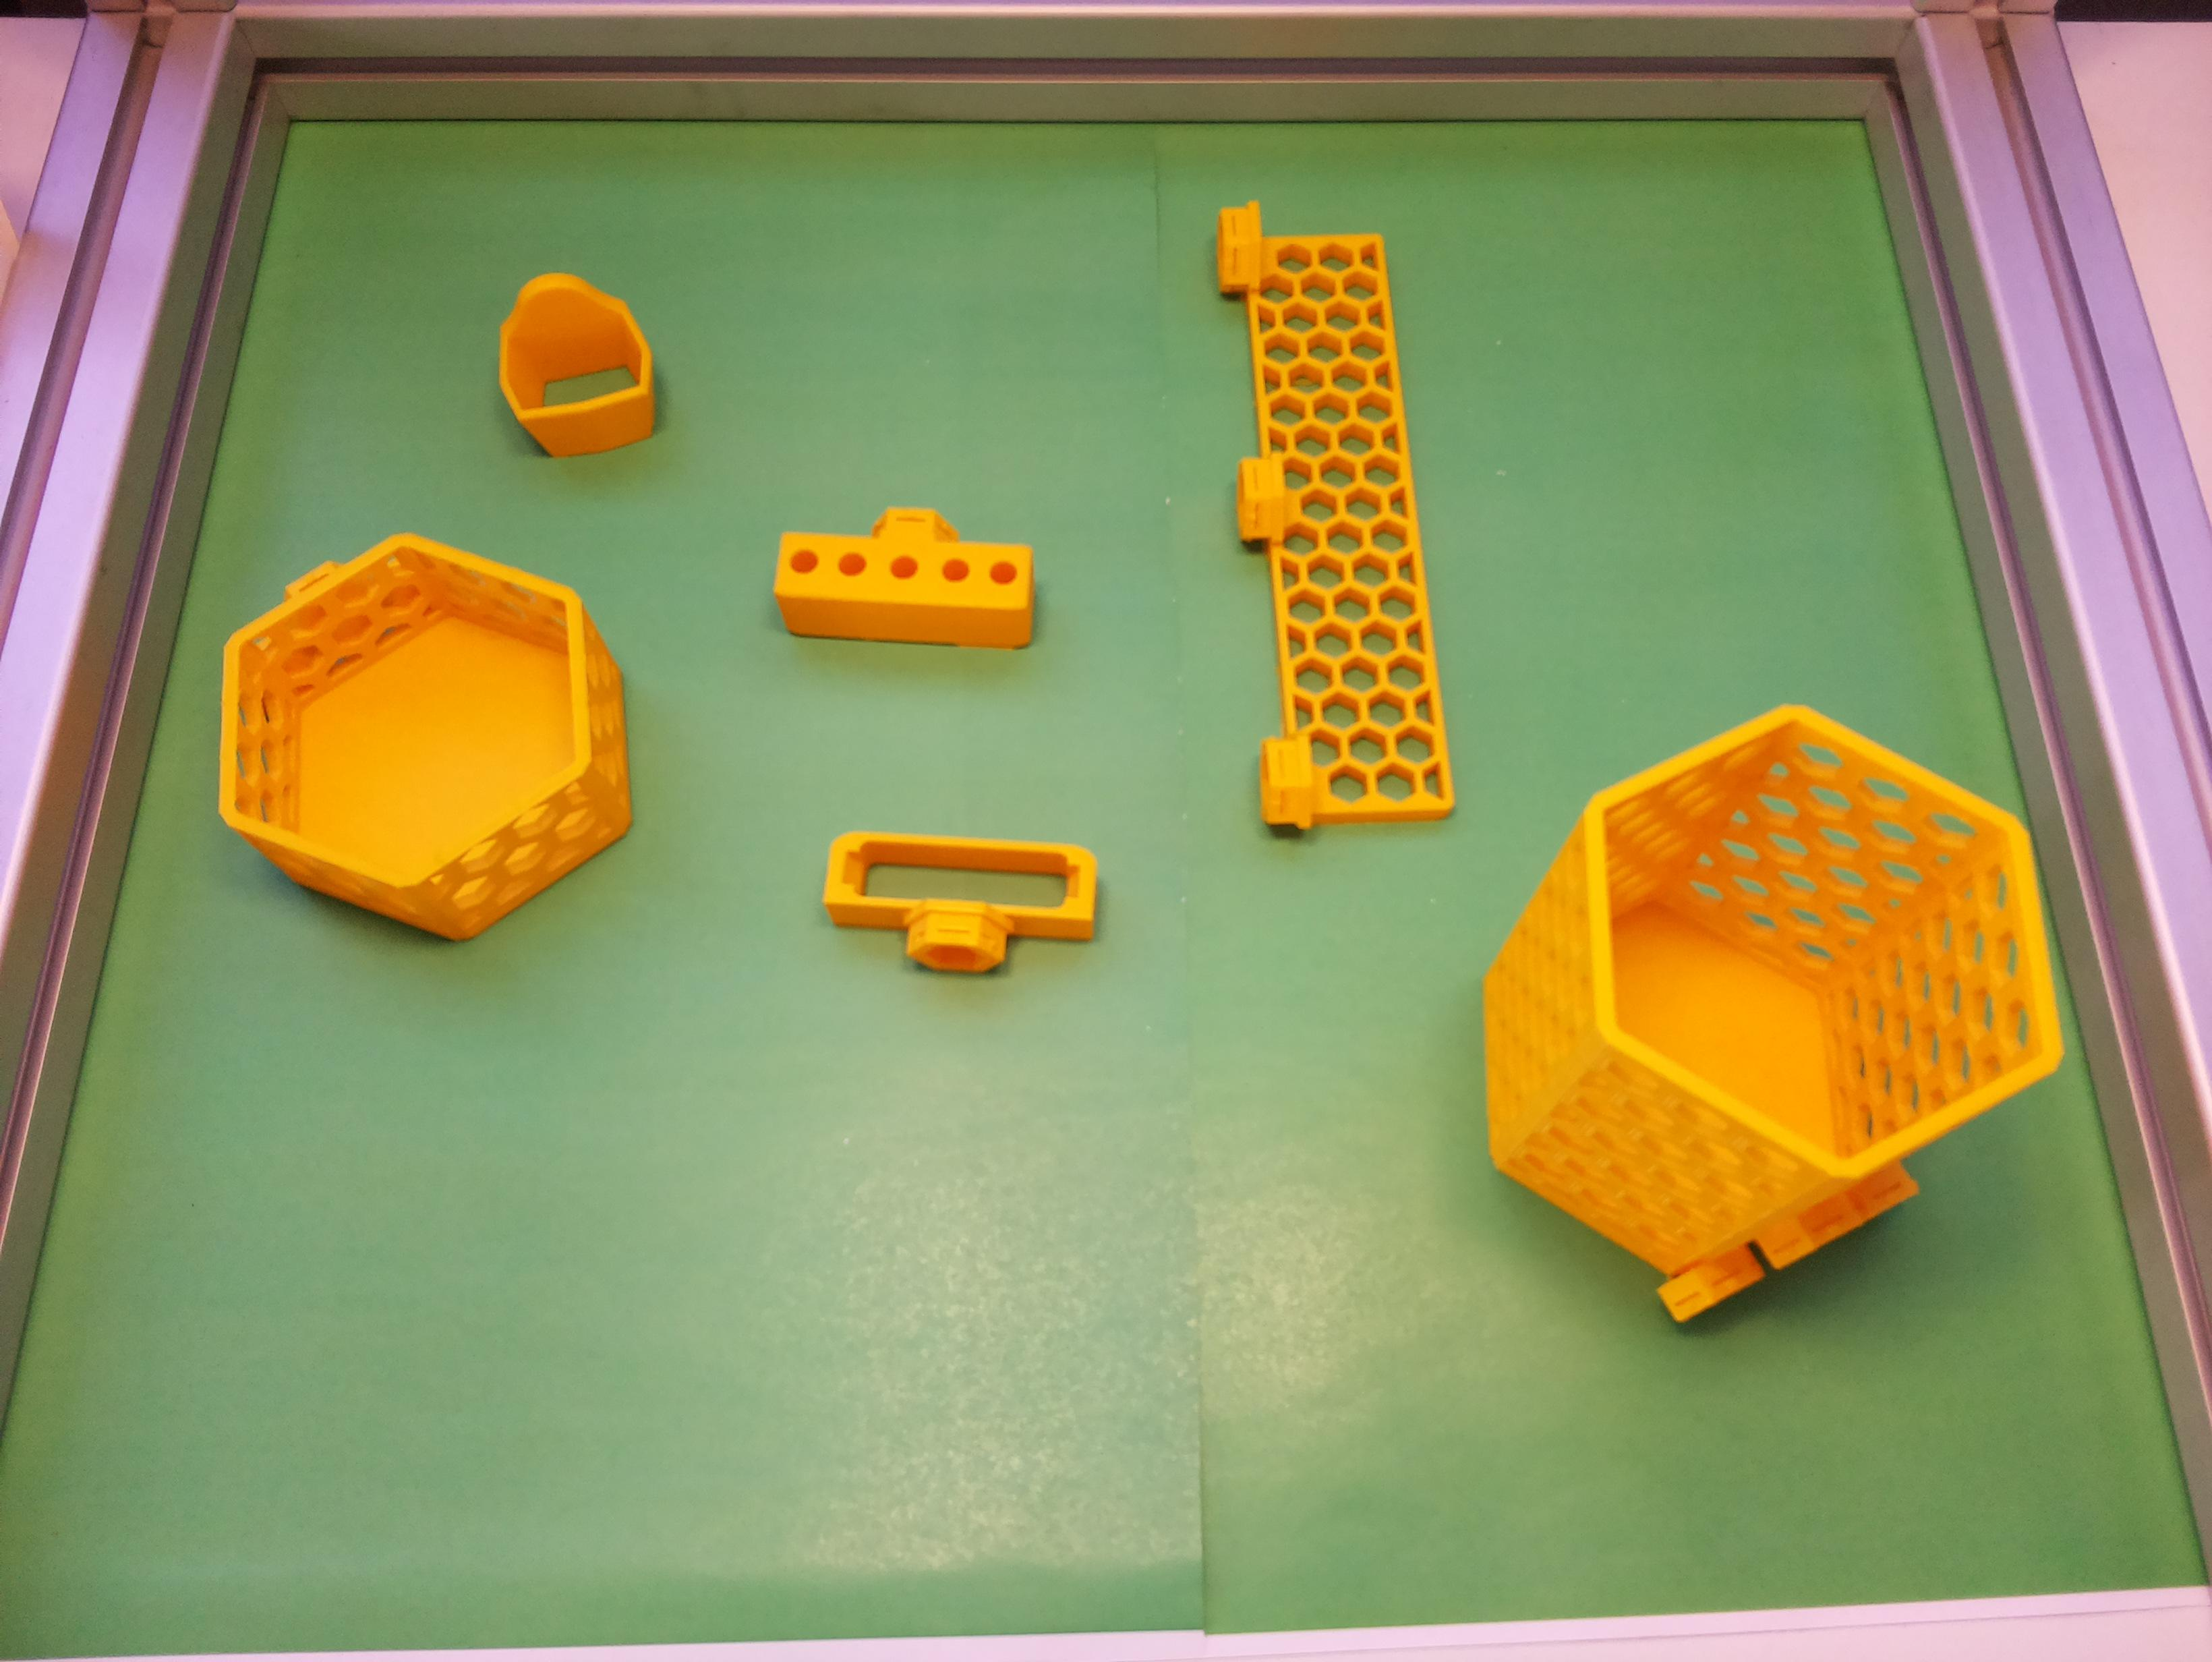bit_holder: (772, 501, 1039, 649)
bottle_holder: (161, 489, 695, 981)
cup_holder: (1357, 597, 2156, 1388)
cutter_holder: (819, 826, 1105, 985)
scissor_holder: (491, 265, 660, 461)
tool_holder: (1185, 187, 1458, 841)
